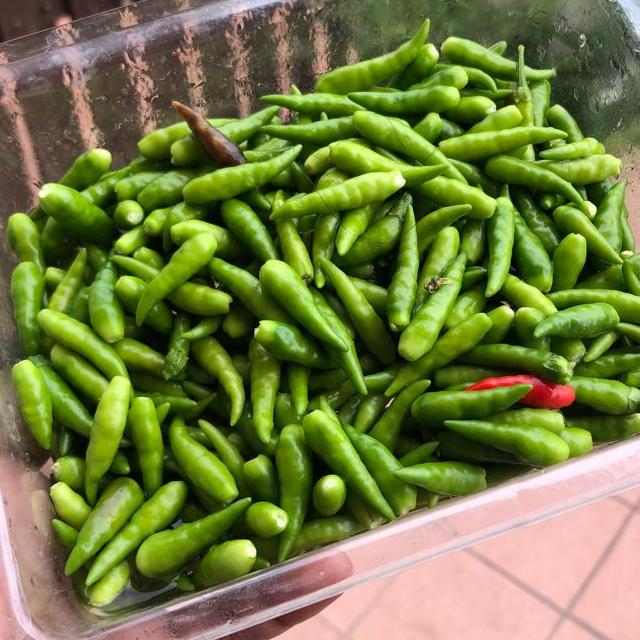chili_pepper: (302, 410, 396, 520), (260, 262, 349, 352), (135, 234, 217, 324), (399, 254, 467, 361), (269, 170, 406, 221), (36, 309, 128, 380), (168, 419, 237, 506), (84, 376, 130, 504), (387, 204, 418, 332)
